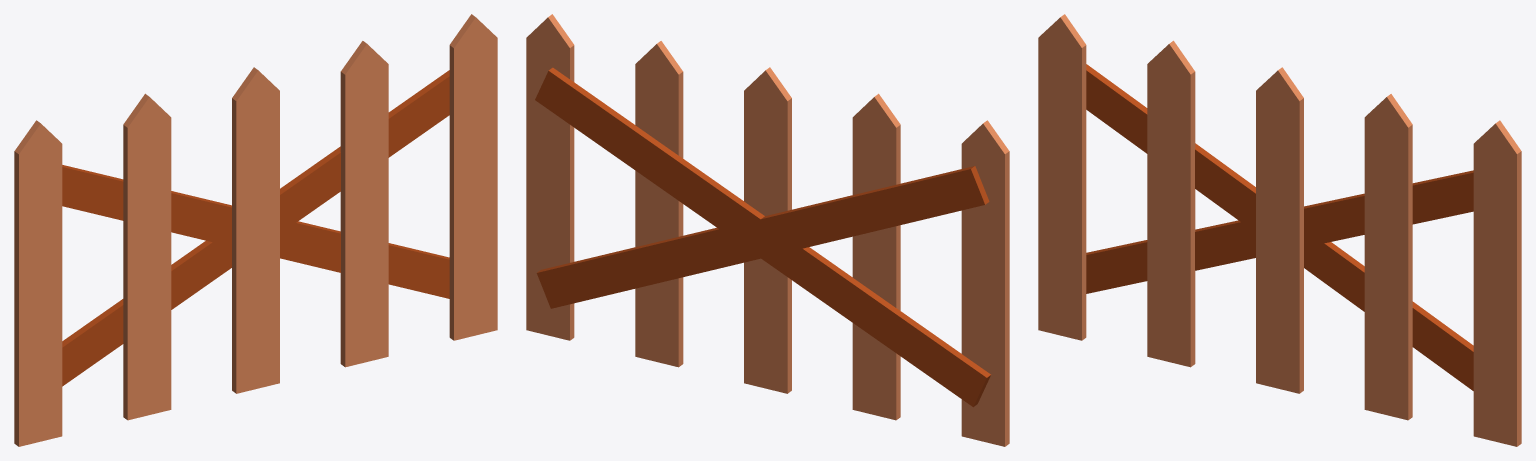
File: Valla X.fbx
3 views of the same model, side by side, from view 1: azimuth 30°, elevation 25°; view 2: azimuth 150°, elevation 25°; view 3: azimuth 330°, elevation 25° (orthographic).
Parts seen in each view (by area): view 1: Cube.001, Cube.003, Cube.002; view 2: Cube.001, Cube.003, Cube.002; view 3: Cube.001, Cube.002, Cube.003.
Boxes of the visible parts, <box> form: Cube.001: <box>14,14,497,446</box>; Cube.003: <box>62,70,449,386</box>; Cube.002: <box>62,165,449,298</box>; Cube.001: <box>526,14,1009,446</box>; Cube.003: <box>535,67,990,407</box>; Cube.002: <box>536,166,989,308</box>; Cube.001: <box>1038,14,1521,446</box>; Cube.002: <box>1086,64,1473,390</box>; Cube.003: <box>1086,170,1473,293</box>.
Size of the model in its own units: 133 by 84.61 by 4.26.
